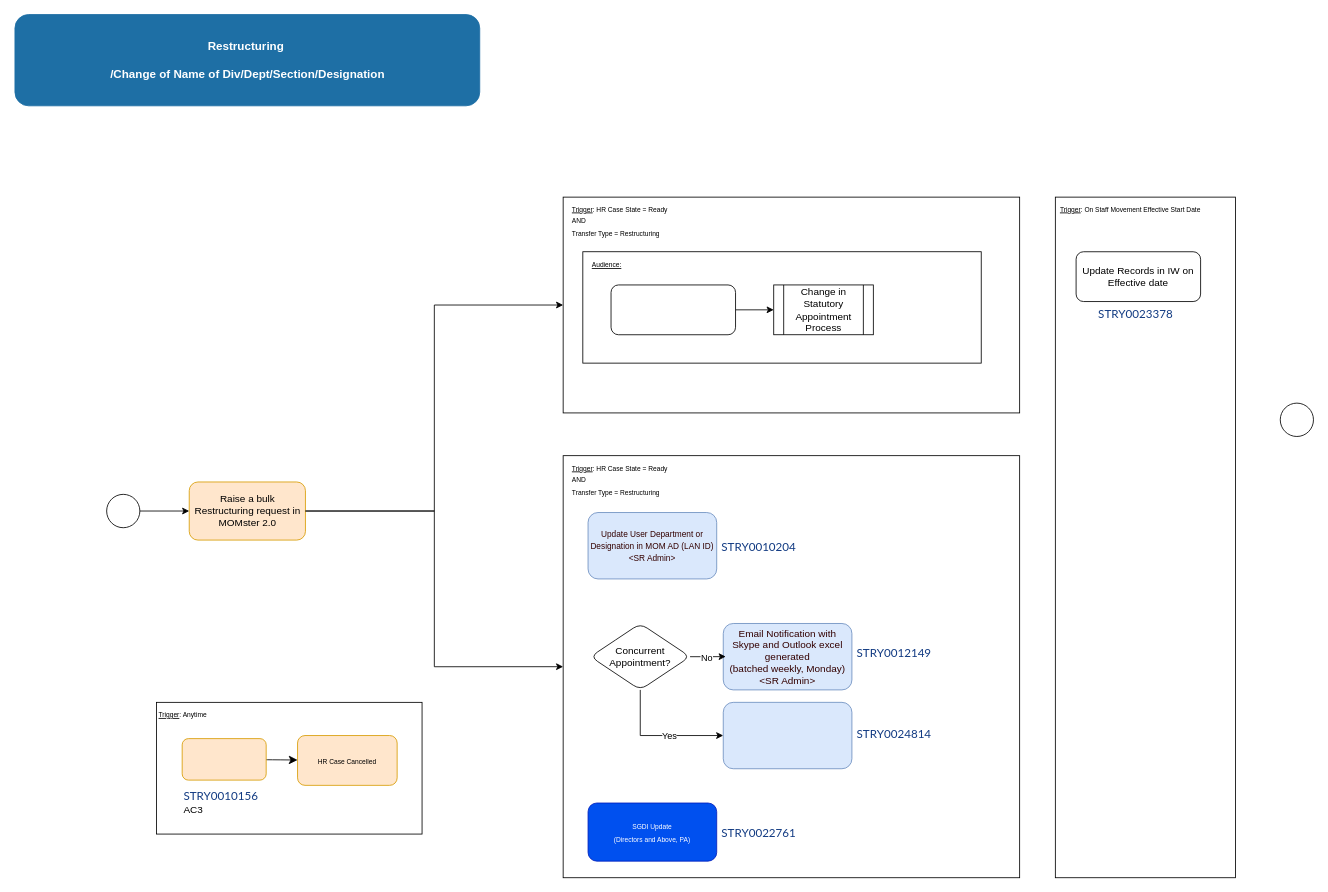
The diagram is 1328 pixels wide and 892 high, and some of its shapes have lost their labels. Each missing label, with the centre of its shape:
Determine type of Statutory Appointment (Name vs Designation Based): the point at 673,309
Email to HRD to inform EUC for double hatting designation: the point at 787,735
End: the point at 1296,419
HR Withdraws Transfer: the point at 223,759
Start: the point at 123,511
